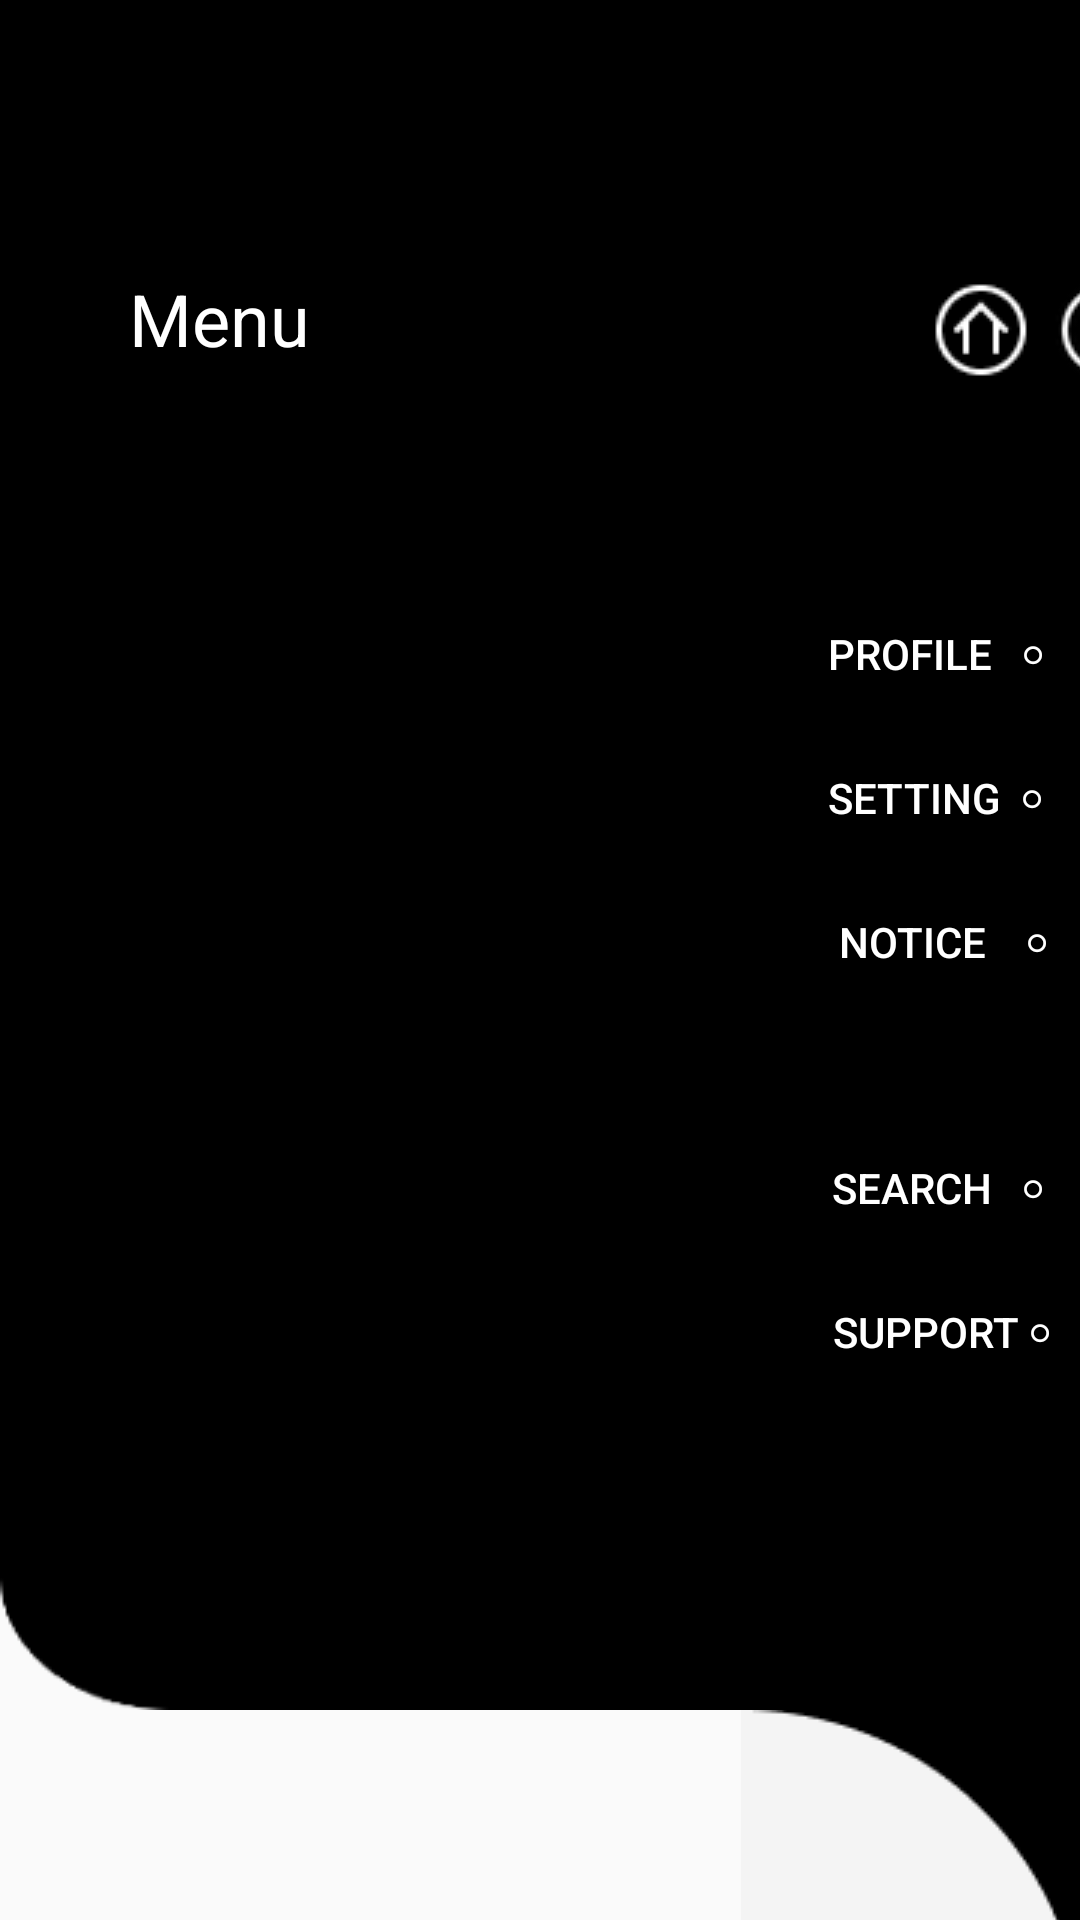

Icons on this 1080*1920 Android screen, each with its box as (x1, y1, x2, y2):
home: (935, 284, 1027, 376)
